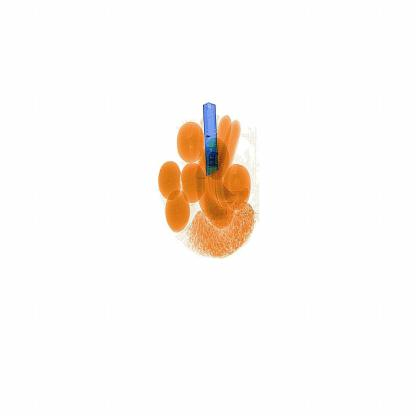pliers: (190, 88, 225, 192)
